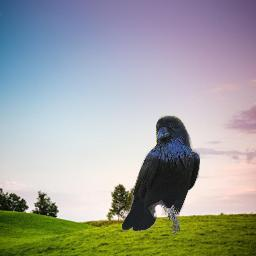Crow: (122, 115, 200, 234)
